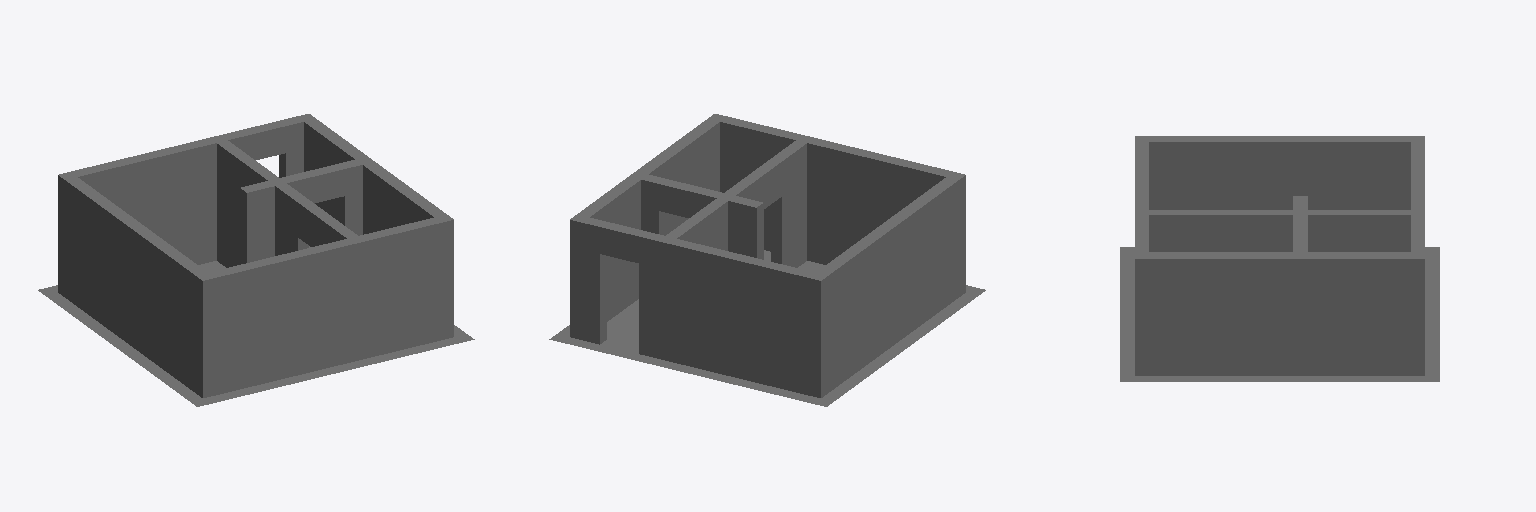
File: room.obj
3 renders of one model, left to right at view 1: azimuth 30°, elevation 25°; view 2: azimuth 150°, elevation 25°; view 3: azimuth 270°, elevation 25°, orthographic.
Parts seen in each view (by area): view 1: pPlane1; view 2: pPlane1; view 3: pPlane1.
Part boxes in pixels (x1,y1,x2,y2): pPlane1: (38,114,474,406); pPlane1: (549,114,985,406); pPlane1: (1120,136,1439,381).
Size of the model in its own units: 22.06 by 8.94 by 22.06.